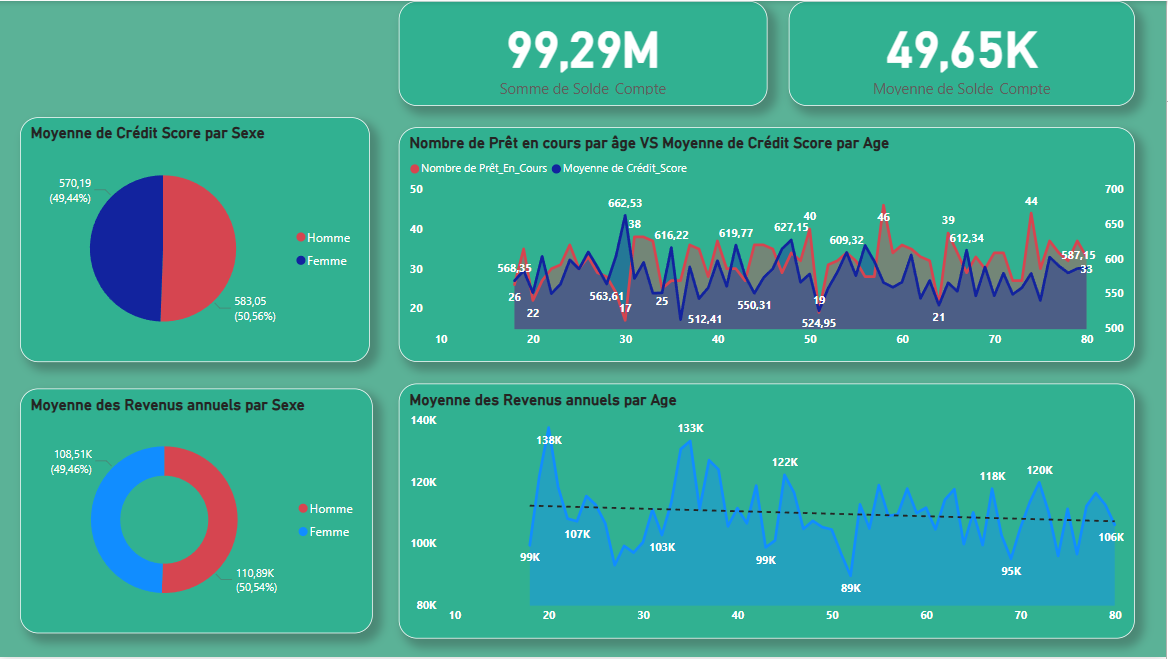

The page's visual inventory and layout, read from the dashboard file:
{"tool":"powerbi","page":{"name":"Page 2","canvas":[1280,720],"ordinal":1},"visuals":[{"type":"pieChart","title":"Moyenne de Crédit Score par Sexe","fields":{"Category":["Credit_Agricole_db.Sexe"],"Y":["Avg(Credit_Agricole_db.Crédit_Score)"]},"box":[22,127.6,384.2,269],"z":0},{"type":"donutChart","title":"Moyenne des Revenus annuels par Sexe","fields":{"Category":["Credit_Agricole_db.Sexe"],"Y":["Avg(Credit_Agricole_db.Revenu_Annuel)"]},"box":[22,425.4,387,269],"z":1000},{"type":"areaChart","title":"Moyenne des Revenus annuels par Age","fields":{"Category":["Credit_Agricole_db.Age"],"Y":["Avg(Credit_Agricole_db.Revenu_Annuel)"]},"box":[437.7,419.9,808.2,279.9],"z":2000},{"type":"areaChart","title":"Nombre de Prêt en cours par âge VS Moyenne de Crédit Score par Age","fields":{"Category":["Credit_Agricole_db.Age"],"Y":["CountNonNull(Credit_Agricole_db.Prêt_En_Cours)"],"Y2":["Avg(Credit_Agricole_db.Crédit_Score)"]},"box":[437.7,138.6,808.2,258],"z":3000},{"type":"card","fields":{"Values":["Avg(Credit_Agricole_db.Solde_Compte)"]},"box":[865.9,0,380.1,115.3],"z":5000},{"type":"card","fields":{"Values":["Sum(Credit_Agricole_db.Solde_Compte)"]},"box":[437.7,0,404.8,115.3],"z":5001}]}

Visuals, with their boxes in screenshot pixels (x1, y1, x2, y2), scaled from the page's 1280x720 canvas onto the 1168x659 screenshot:
"Moyenne de Crédit Score par Sexe" pieChart: 20 117 371 363
"Moyenne des Revenus annuels par Sexe" donutChart: 20 389 373 636
"Moyenne des Revenus annuels par Age" areaChart: 399 384 1137 641
"Nombre de Prêt en cours par âge VS Moyenne de Crédit Score par Age" areaChart: 399 127 1137 363
card - Avg(Credit_Agricole_db.Solde_Compte): 790 0 1137 106
card - Sum(Credit_Agricole_db.Solde_Compte): 399 0 769 106
